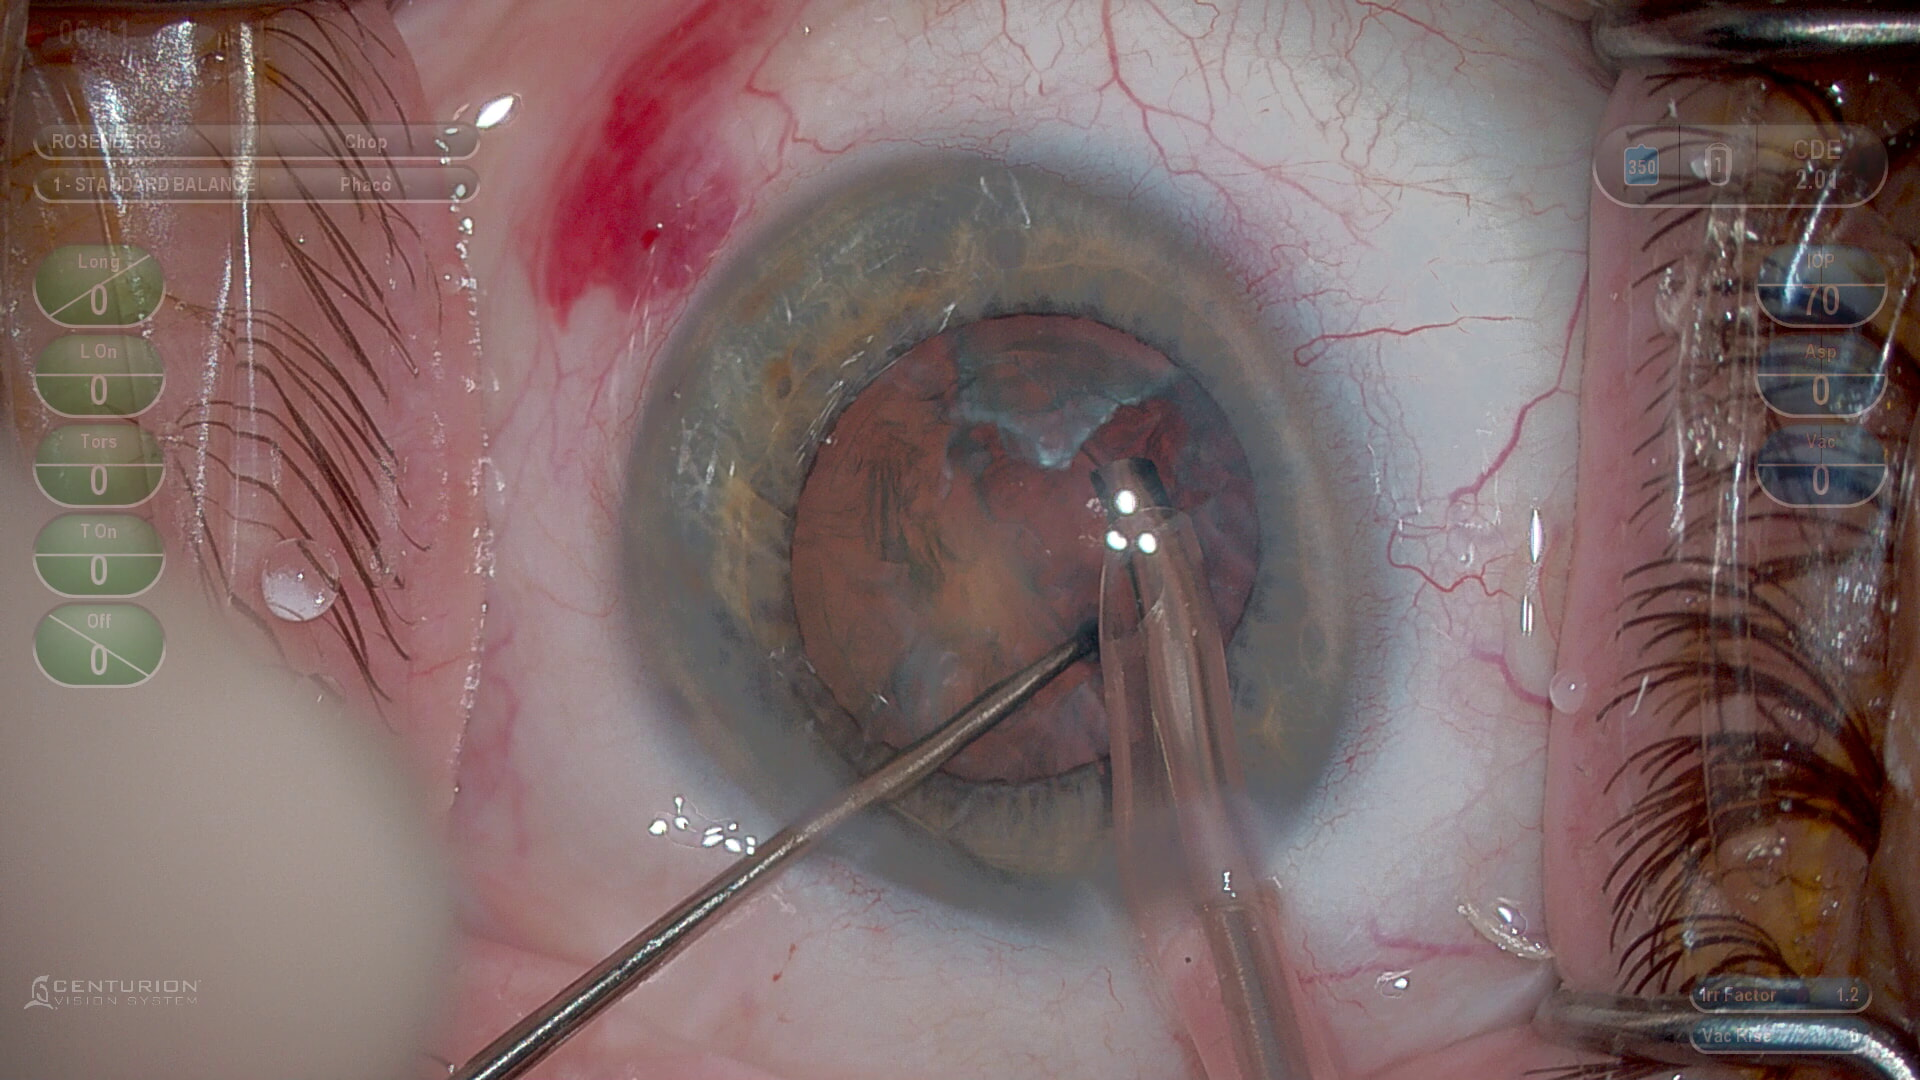iris: (645, 168, 1381, 926)
pupil: (781, 311, 1269, 790)
